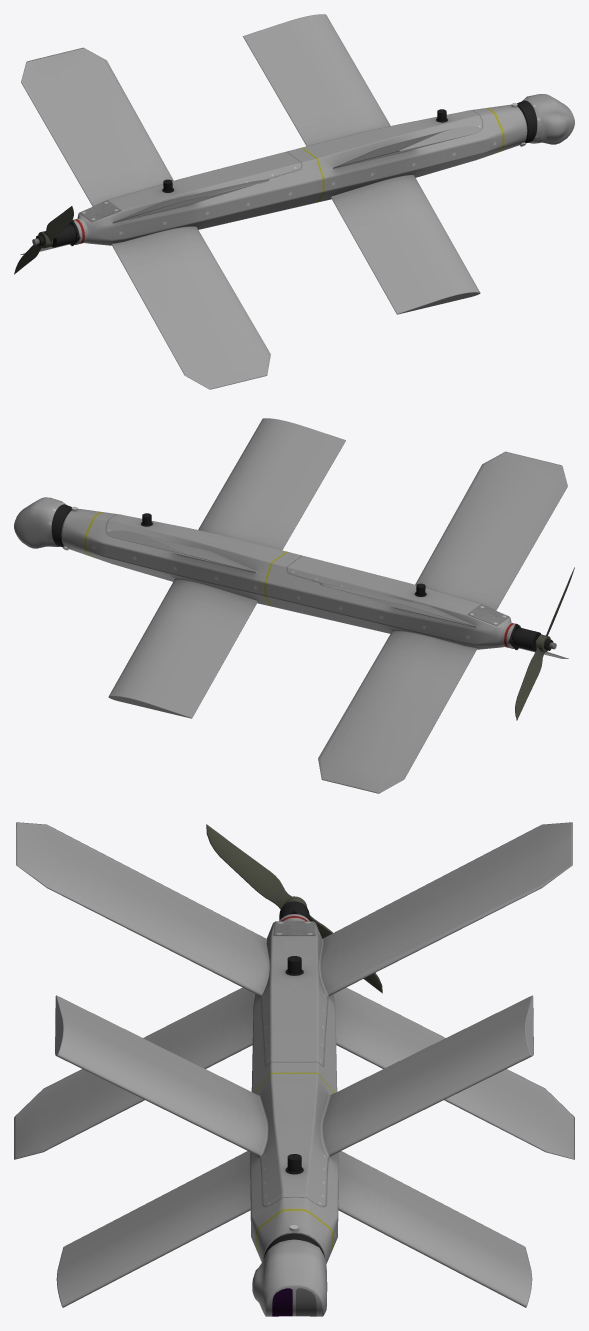
Rendered from tgt_lancet.glb.
3 views of the same model, one above another, from view 1: azimuth 30°, elevation 25°; view 2: azimuth 150°, elevation 25°; view 3: azimuth 270°, elevation 25° (orthographic). The views are drawn at different scales.
Visible parts, largest first — view 1: body, prop_1; view 2: body, prop_1; view 3: body, prop_1.
Boxes of the visible parts, x1,y1,x2,y2 form: body: (20,14,574,389); prop_1: (14,206,73,274); body: (14,418,568,793); prop_1: (515,567,574,720); body: (14,822,574,1316); prop_1: (206,824,382,993).
Size of the model in its own units: 1.65 by 0.5747 by 0.9894.
Materials: 1 (1 with a texture image).
